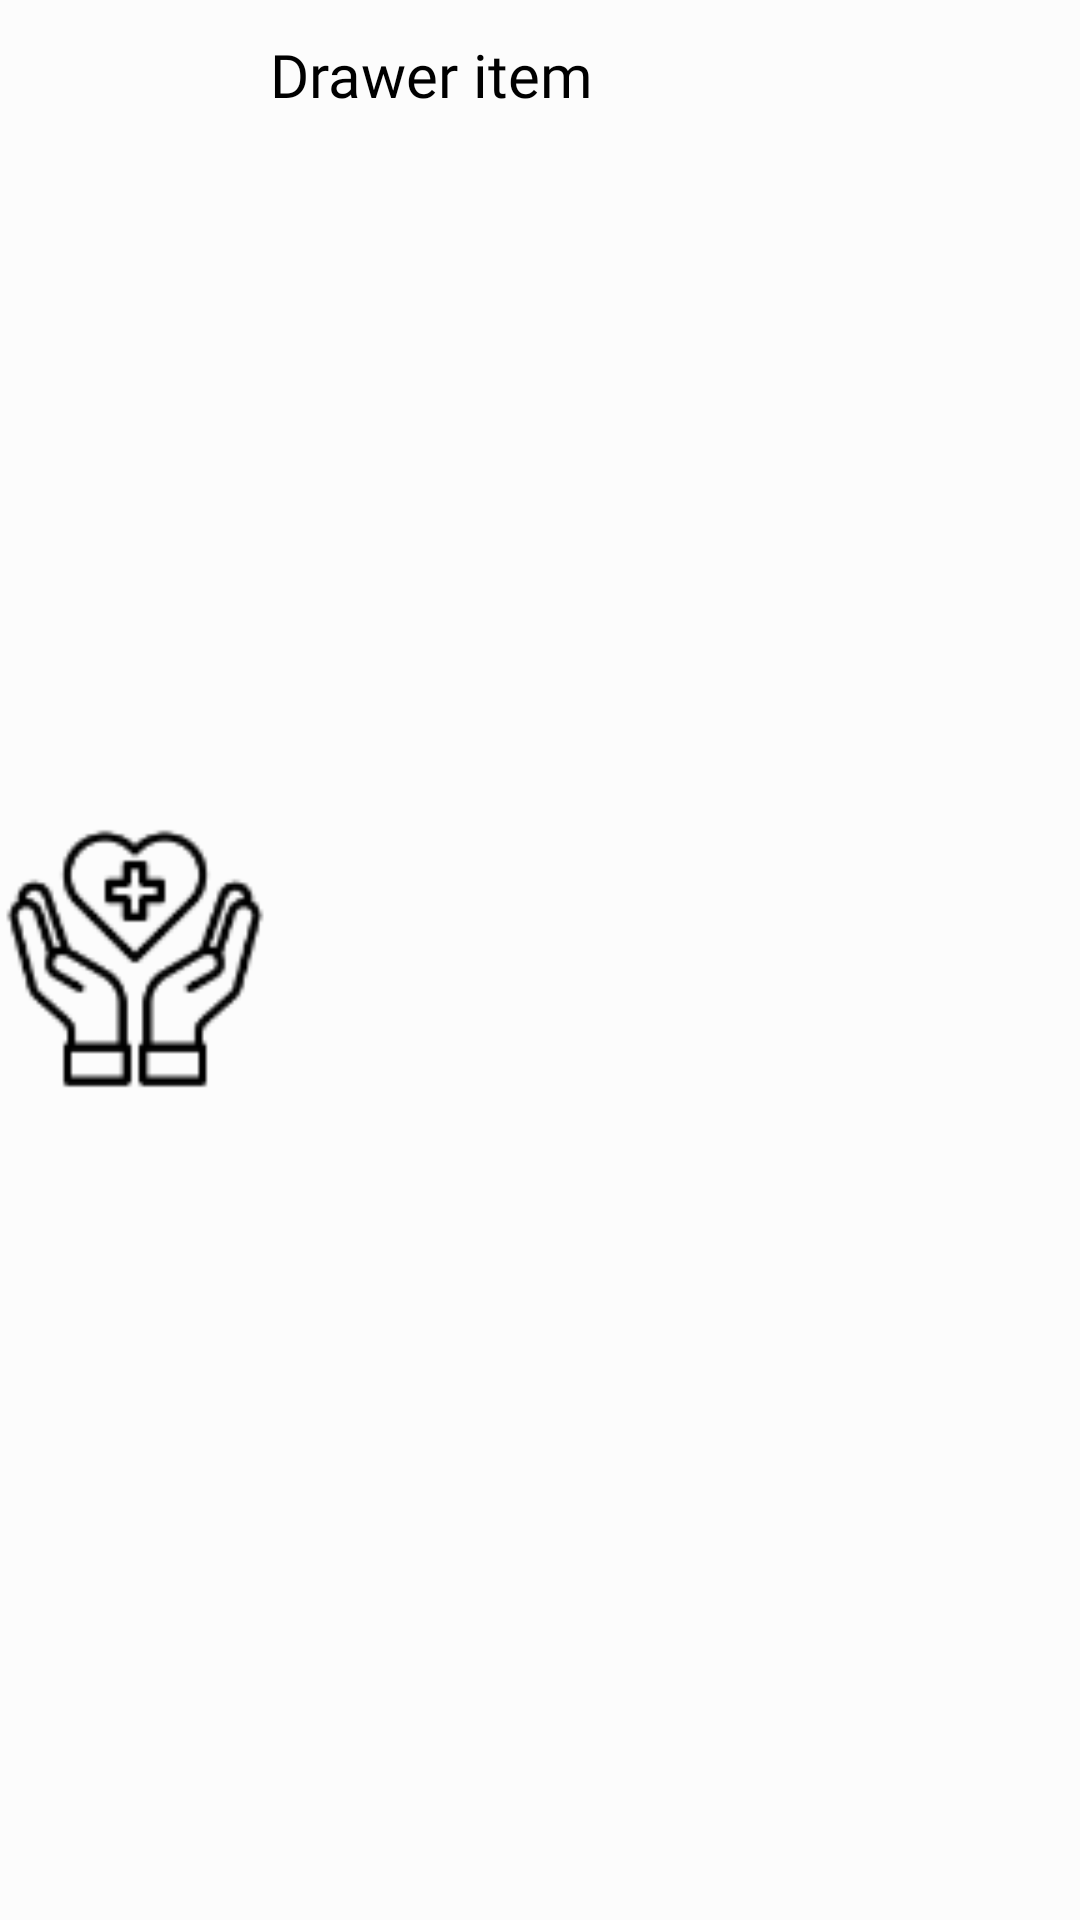

Icon bounding boxes for this 1080px×1920px phone screenshot, format (x1=x1, y1=y1, x2=x2, y2=y2):
healthcare onboarding: (x1=6, y1=830, x2=264, y2=1087)
